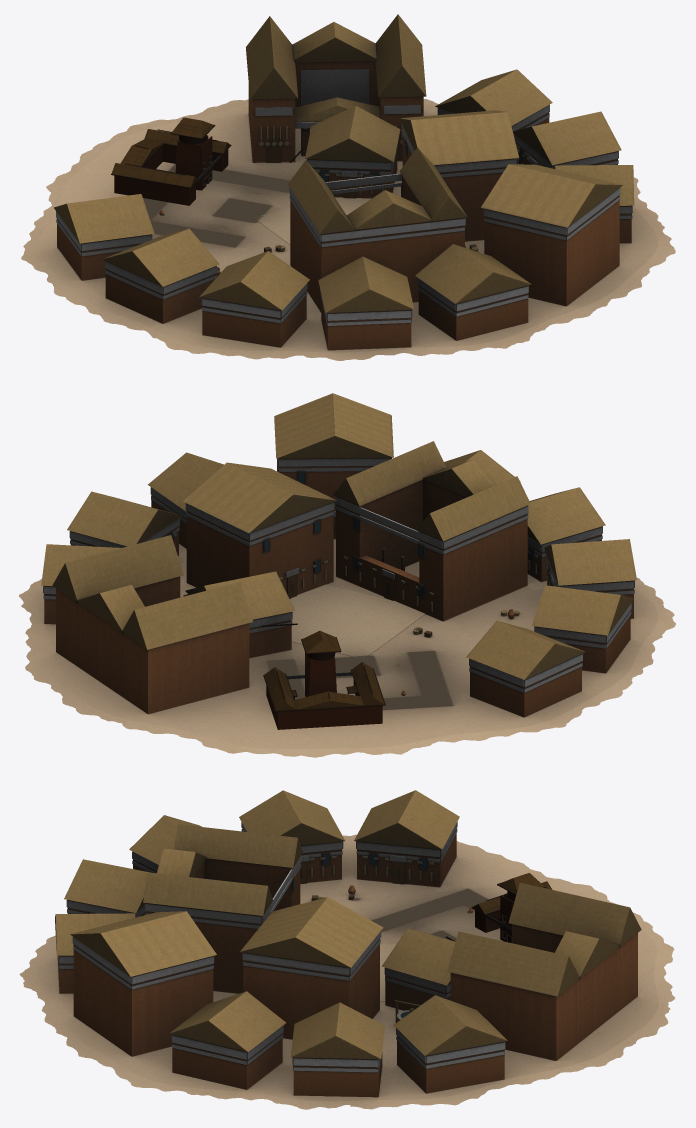
The model's file is kingdoms-town-medium-b-westafrica-0bd41478.glb.
3 views of the same model, one above another, from view 1: azimuth 30°, elevation 25°; view 2: azimuth 150°, elevation 25°; view 3: azimuth 270°, elevation 25° (orthographic).
Parts seen in each view (by area): view 1: LOD0; view 2: LOD0; view 3: LOD0.
Boxes of the visible parts, x1,y1,x2,y2 form: LOD0: (21,14,675,360); LOD0: (19,393,675,757); LOD0: (19,790,675,1109).
Size of what is drawn, in the model's own units: 5.92 by 1.05 by 5.96.
Materials: 3 (3 with a texture image).
